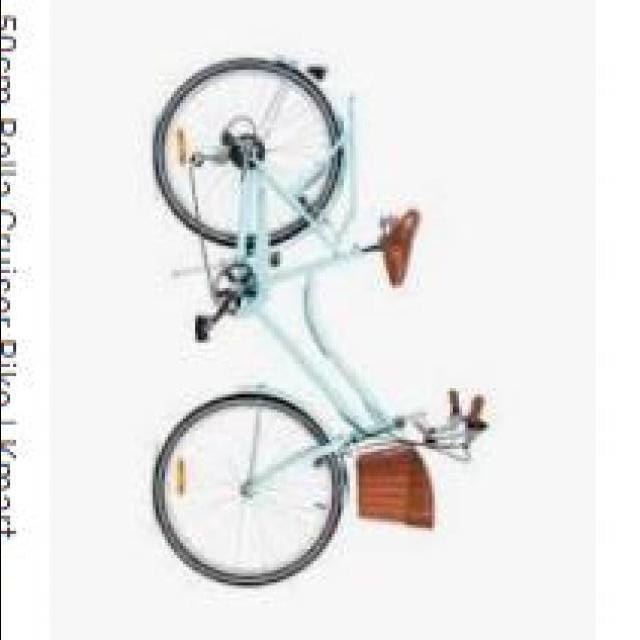bicycle: (107, 53, 495, 584)
